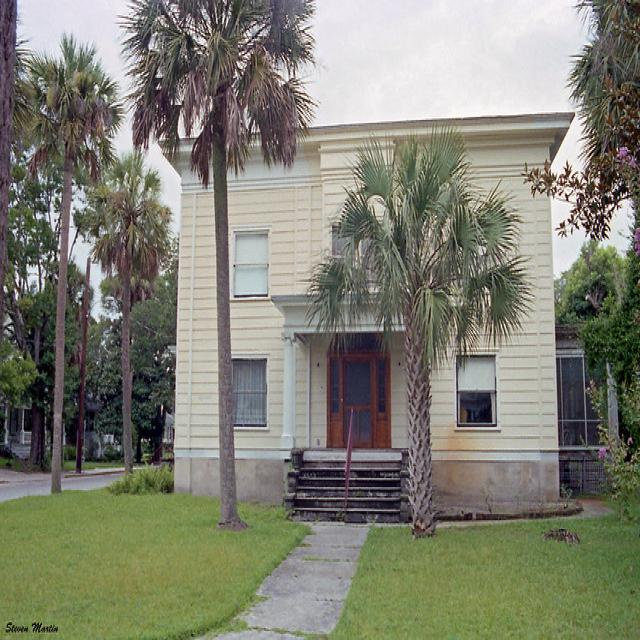Normal_building: (149, 104, 597, 518)
